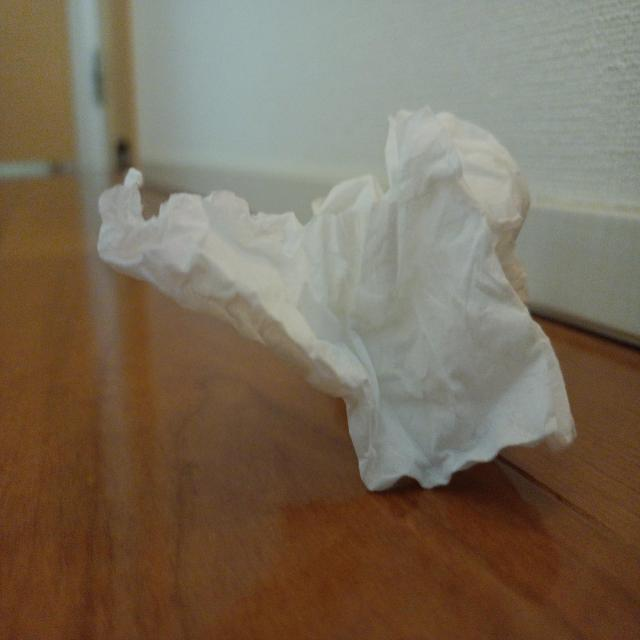Paper: (95, 103, 591, 504)
